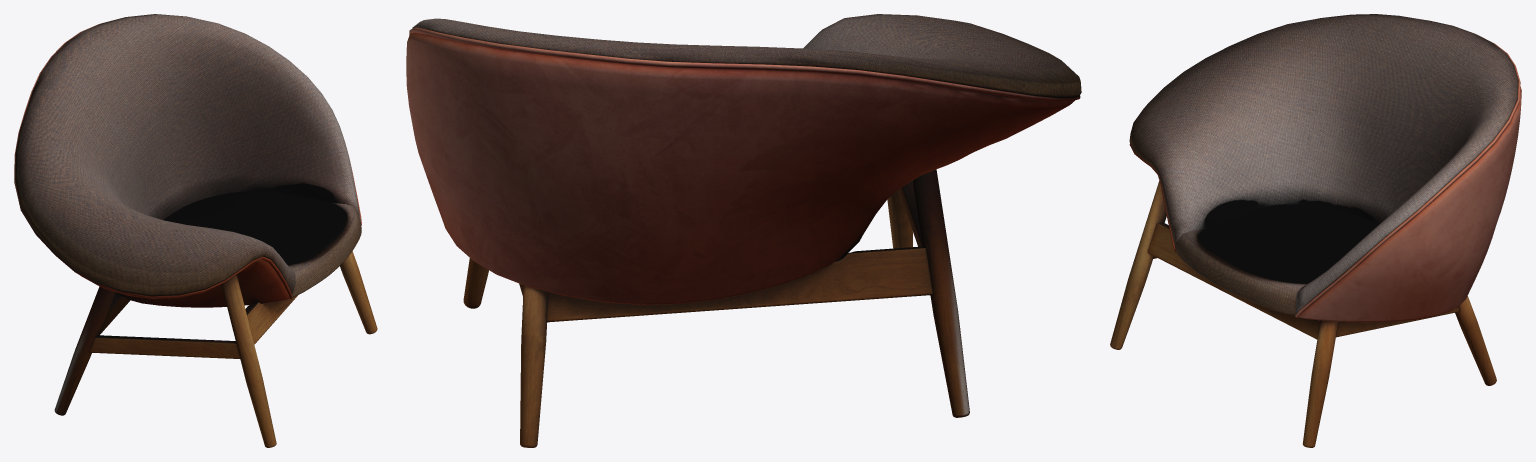
The model's file is chair_b.glb.
3 views of the same model, side by side, from view 1: azimuth 30°, elevation 25°; view 2: azimuth 150°, elevation 25°; view 3: azimuth 270°, elevation 25° (orthographic). The views are drawn at different scales.
Parts seen in each view (by area): view 1: fried_egg; view 2: fried_egg; view 3: fried_egg.
Part boxes in pixels (x1,y1,x2,y2): fried_egg: [14, 14, 377, 447]; fried_egg: [406, 14, 1081, 447]; fried_egg: [1110, 14, 1521, 447].
Bounding box in the file's own units: 1.53 × 1.13 × 1.42.
1 material, 1 textured.
